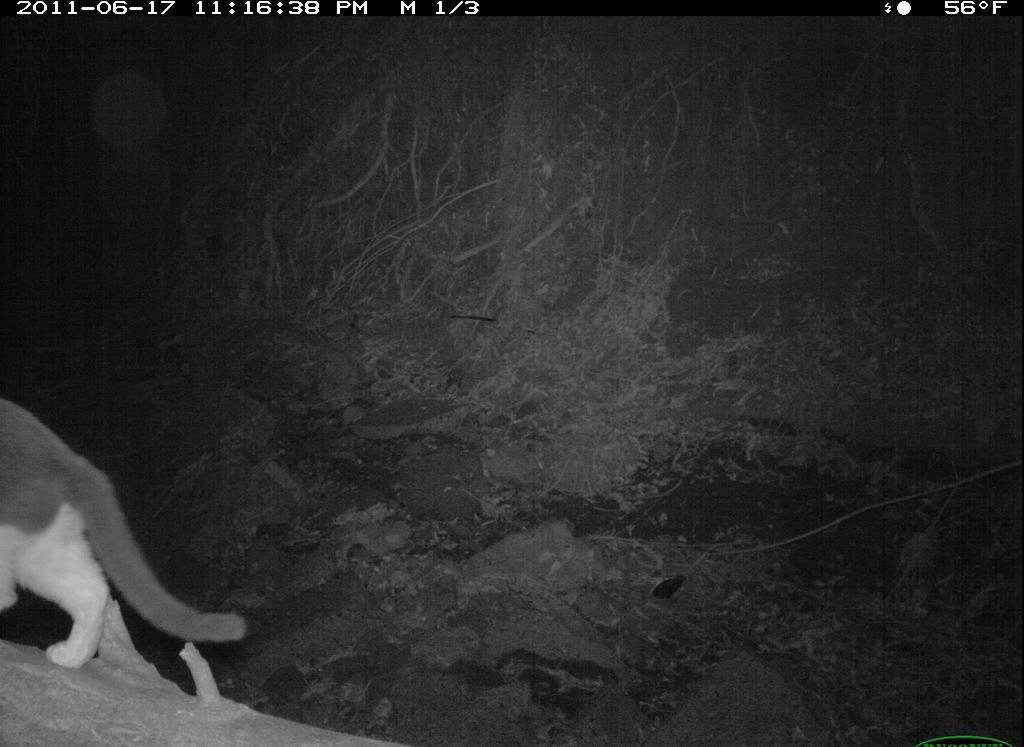cat: (1, 390, 257, 686)
